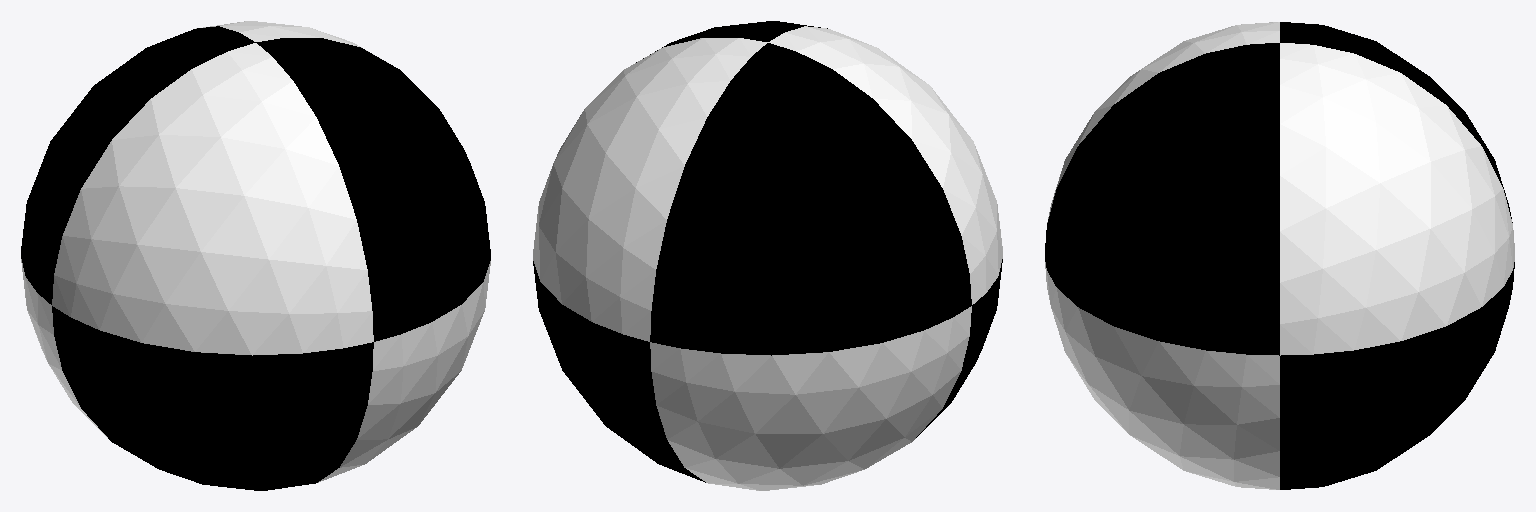
Rendered from ball.obj.
The picture shows the model from 3 angles: view 1: azimuth 30°, elevation 25°; view 2: azimuth 150°, elevation 25°; view 3: azimuth 270°, elevation 25°; orthographic projection.
Visible parts, largest first — view 1: octahedron1; view 2: octahedron1; view 3: octahedron1.
Boxes of the visible parts, box(x1,y1,x2,y2) form: octahedron1: box(21, 21, 490, 490); octahedron1: box(533, 21, 1002, 490); octahedron1: box(1045, 22, 1514, 489).
Bounding box in the file's own units: 2 × 2 × 2.